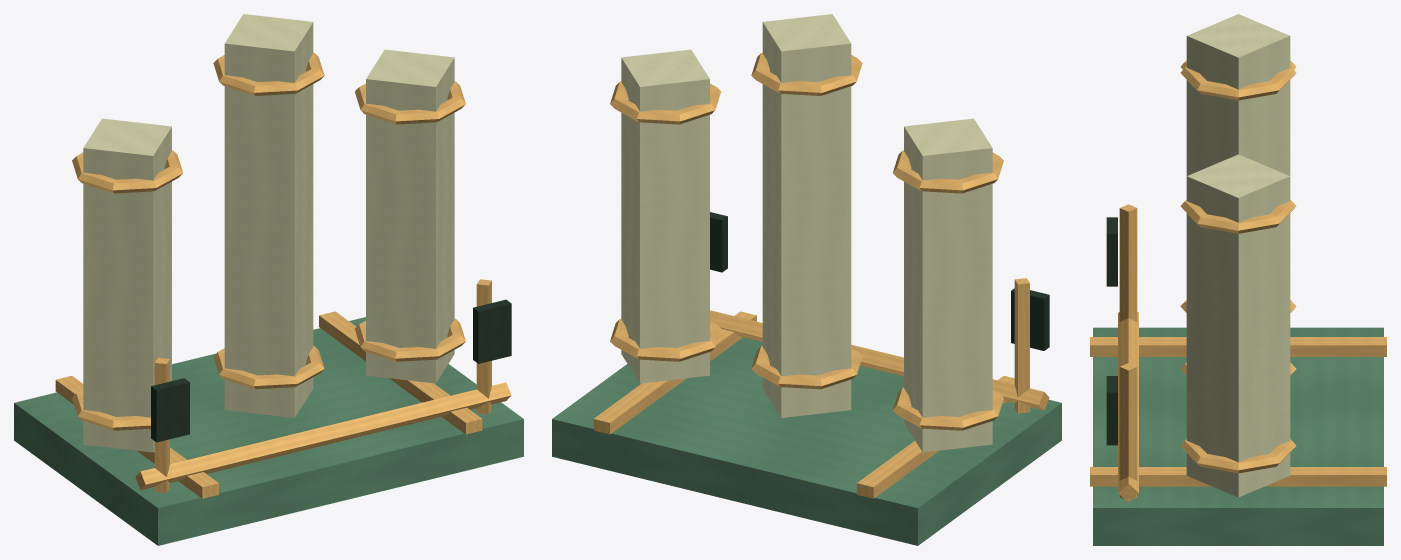
The model's file is atlas100-s001-a01.lod2.glb.
3 renders of one model, left to right at view 1: azimuth 30°, elevation 25°; view 2: azimuth 150°, elevation 25°; view 3: azimuth 270°, elevation 25°, orthographic.
Visible parts, largest first — view 1: atlas100-s001-a01:part-000, atlas100-s001-a01:part-007, atlas100-s001-a01:part-011, atlas100-s001-a01:part-003, atlas100-s001-a01:part-019, atlas100-s001-a01:part-002, atlas100-s001-a01:part-016, atlas100-s001-a01:part-018, atlas100-s001-a01:part-005, atlas100-s001-a01:part-008, atlas100-s001-a01:part-013, atlas100-s001-a01:part-009 (+5 smaller); view 2: atlas100-s001-a01:part-000, atlas100-s001-a01:part-007, atlas100-s001-a01:part-003, atlas100-s001-a01:part-011, atlas100-s001-a01:part-019, atlas100-s001-a01:part-002, atlas100-s001-a01:part-015, atlas100-s001-a01:part-001, atlas100-s001-a01:part-004, atlas100-s001-a01:part-005, atlas100-s001-a01:part-008, atlas100-s001-a01:part-013 (+4 smaller); view 3: atlas100-s001-a01:part-000, atlas100-s001-a01:part-011, atlas100-s001-a01:part-007, atlas100-s001-a01:part-002, atlas100-s001-a01:part-001, atlas100-s001-a01:part-017, atlas100-s001-a01:part-015, atlas100-s001-a01:part-019, atlas100-s001-a01:part-009, atlas100-s001-a01:part-012, atlas100-s001-a01:part-013, atlas100-s001-a01:part-016 (+1 smaller).
Part boxes in pixels (x1,y1,x2,y2): atlas100-s001-a01:part-000: [14, 317, 523, 545]; atlas100-s001-a01:part-007: [224, 14, 313, 417]; atlas100-s001-a01:part-011: [366, 49, 454, 383]; atlas100-s001-a01:part-003: [83, 118, 171, 452]; atlas100-s001-a01:part-019: [135, 382, 511, 490]; atlas100-s001-a01:part-002: [319, 311, 482, 434]; atlas100-s001-a01:part-016: [151, 378, 189, 442]; atlas100-s001-a01:part-018: [473, 299, 511, 363]; atlas100-s001-a01:part-005: [72, 150, 182, 193]; atlas100-s001-a01:part-008: [213, 346, 324, 389]; atlas100-s001-a01:part-013: [355, 81, 465, 124]; atlas100-s001-a01:part-009: [213, 52, 324, 95]; atlas100-s001-a01:part-000: [552, 337, 1061, 545]; atlas100-s001-a01:part-007: [762, 14, 851, 417]; atlas100-s001-a01:part-003: [904, 118, 992, 452]; atlas100-s001-a01:part-011: [621, 49, 709, 383]; atlas100-s001-a01:part-019: [710, 310, 1049, 410]; atlas100-s001-a01:part-002: [593, 311, 756, 434]; atlas100-s001-a01:part-015: [1014, 278, 1029, 413]; atlas100-s001-a01:part-001: [857, 376, 1014, 498]; atlas100-s001-a01:part-004: [892, 387, 1003, 430]; atlas100-s001-a01:part-005: [893, 150, 1003, 193]; atlas100-s001-a01:part-008: [751, 346, 862, 389]; atlas100-s001-a01:part-013: [610, 81, 720, 124]; atlas100-s001-a01:part-000: [1093, 327, 1383, 545]; atlas100-s001-a01:part-011: [1186, 154, 1290, 497]; atlas100-s001-a01:part-007: [1186, 14, 1290, 175]; atlas100-s001-a01:part-002: [1090, 467, 1386, 486]; atlas100-s001-a01:part-001: [1090, 337, 1386, 356]; atlas100-s001-a01:part-017: [1119, 363, 1137, 498]; atlas100-s001-a01:part-015: [1119, 204, 1137, 321]; atlas100-s001-a01:part-019: [1118, 311, 1138, 502]; atlas100-s001-a01:part-009: [1180, 66, 1296, 100]; atlas100-s001-a01:part-012: [1180, 439, 1296, 473]; atlas100-s001-a01:part-013: [1180, 200, 1296, 233]; atlas100-s001-a01:part-016: [1106, 217, 1117, 286].
Size of the model in its own units: 2.76 by 2.87 by 1.84.
Materials: 4 (4 with a texture image).
